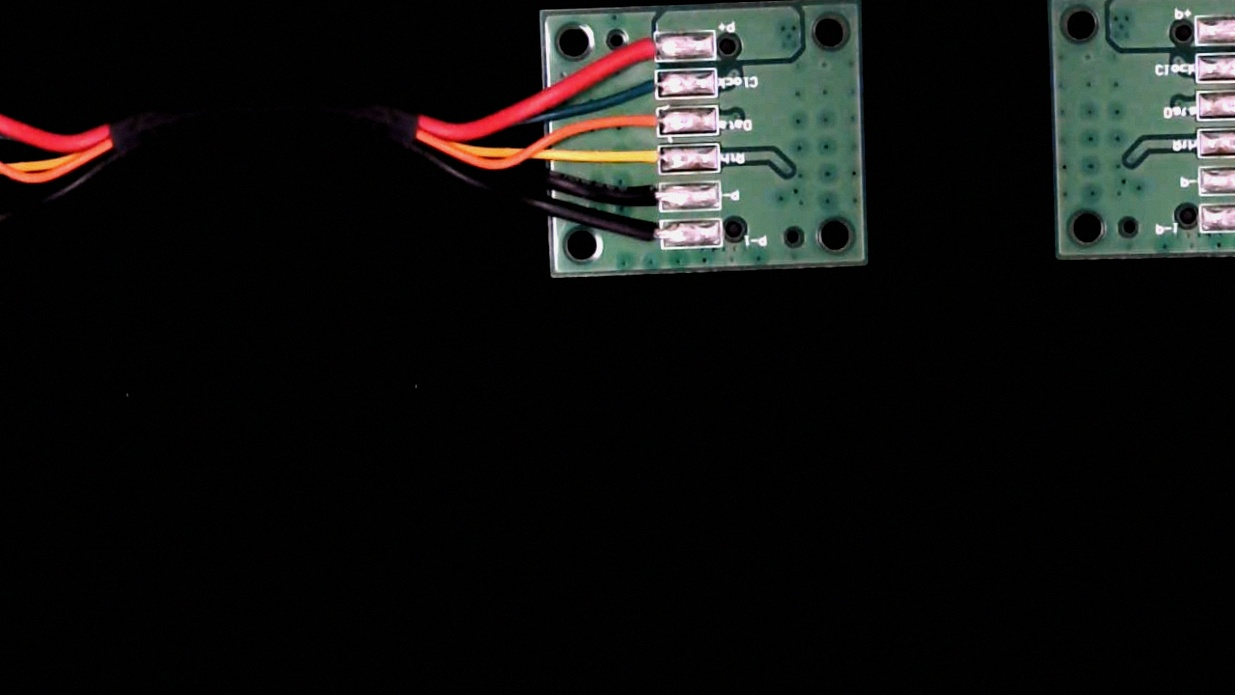Black: (606, 180, 674, 213)
Black1: (612, 217, 675, 251)
Green: (614, 70, 670, 103)
Orange: (613, 105, 673, 138)
Red: (609, 31, 671, 66)
Yellow: (610, 142, 674, 175)
